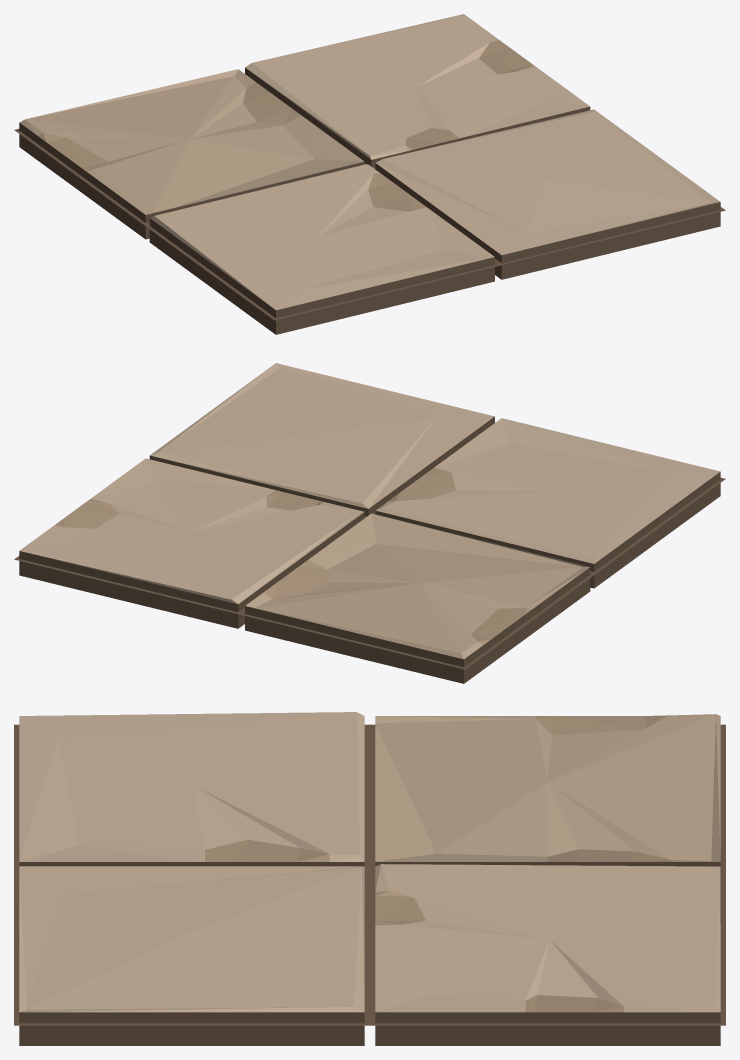
The model's file is SM_Ground_PavingTile_Rough_01.fbx.
3 views of the same model, one above another, from view 1: azimuth 30°, elevation 25°; view 2: azimuth 150°, elevation 25°; view 3: azimuth 270°, elevation 25° (orthographic). The views are drawn at different scales.
Visible parts, largest first — view 1: SM_Ground_PavingTile_Rough_01; view 2: SM_Ground_PavingTile_Rough_01; view 3: SM_Ground_PavingTile_Rough_01.
Boxes of the visible parts, bbox=[...] form: SM_Ground_PavingTile_Rough_01: bbox=[14, 14, 725, 334]; SM_Ground_PavingTile_Rough_01: bbox=[14, 363, 725, 683]; SM_Ground_PavingTile_Rough_01: bbox=[14, 712, 725, 1045].
Bounding box in the file's own units: 1 × 0.0599 × 1.
Materials: 1 (1 with a texture image).
